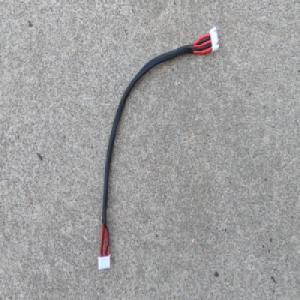Wire: (97, 25, 221, 271)
